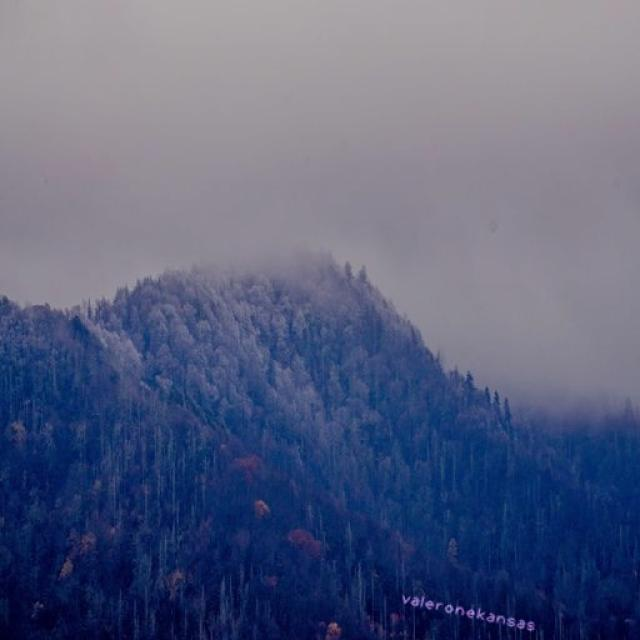watermark: (395, 590, 546, 633)
